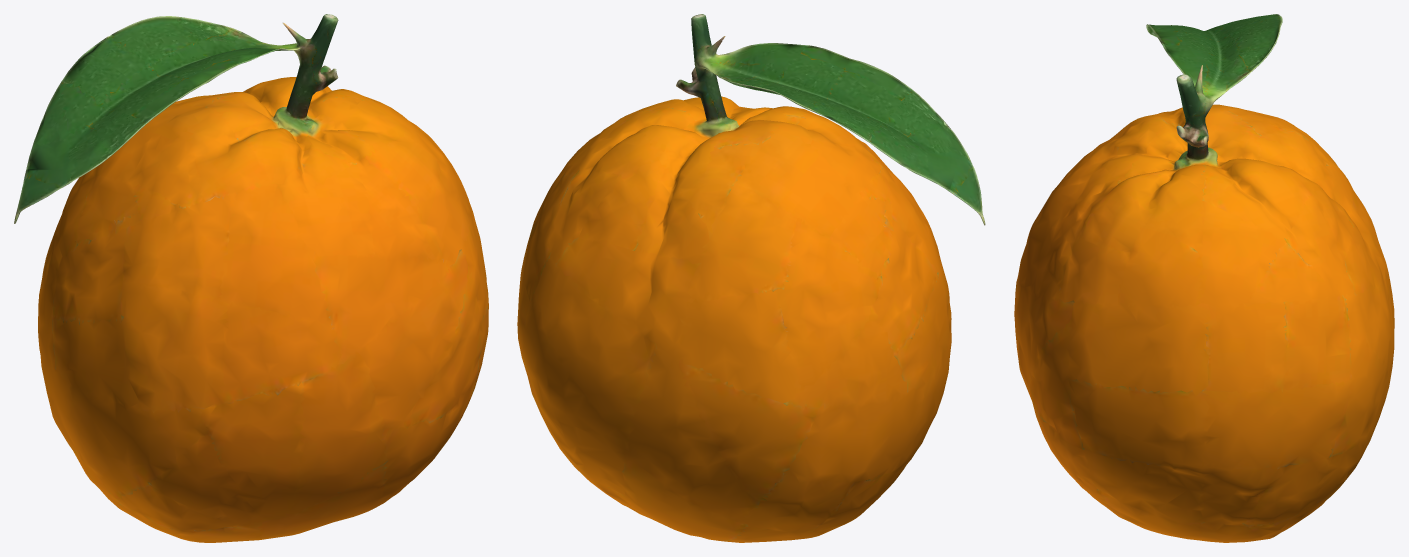
File: Orange.glb
3 views of the same model, side by side, from view 1: azimuth 30°, elevation 25°; view 2: azimuth 150°, elevation 25°; view 3: azimuth 270°, elevation 25° (orthographic). The views are drawn at different scales.
Visible parts, largest first — view 1: mesh_node; view 2: mesh_node; view 3: mesh_node.
Part boxes in pixels (bbox=[...]): mesh_node: bbox=[14, 14, 488, 542]; mesh_node: bbox=[517, 14, 985, 542]; mesh_node: bbox=[1014, 14, 1394, 542].
Size of the model in its own units: 1.78 by 1.9 by 1.39.
Materials: 1 (1 with a texture image).
